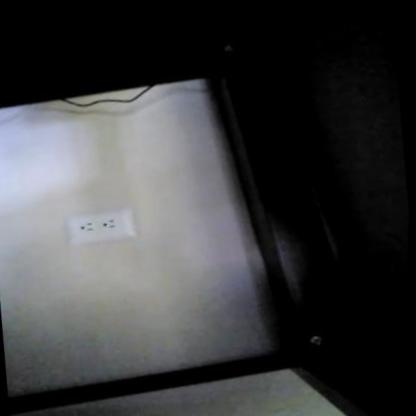OUTLET: (61, 204, 136, 248)
